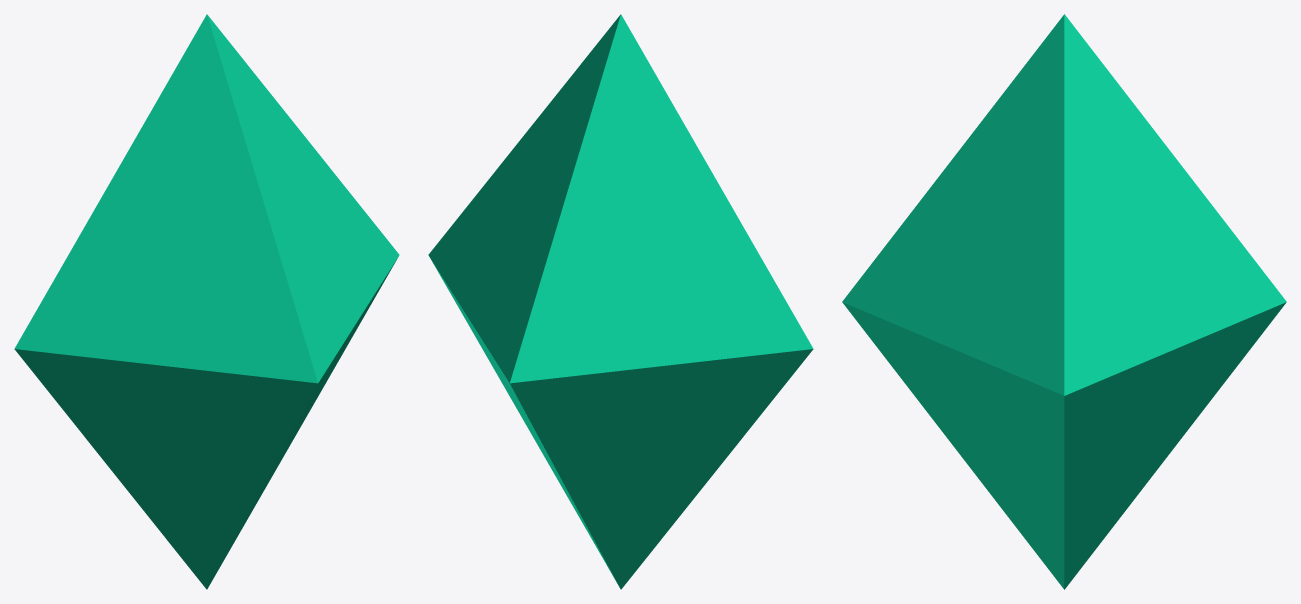
The model's file is coin.glb.
3 views of the same model, side by side, from view 1: azimuth 30°, elevation 25°; view 2: azimuth 150°, elevation 25°; view 3: azimuth 270°, elevation 25° (orthographic).
Visible parts, largest first — view 1: root_mesh; view 2: root_mesh; view 3: root_mesh.
Part boxes in pixels (x1,y1,x2,y2): root_mesh: [14, 14, 399, 589]; root_mesh: [428, 14, 813, 589]; root_mesh: [842, 14, 1286, 589].
Size of the model in its own units: 0.7 by 1 by 0.7.
